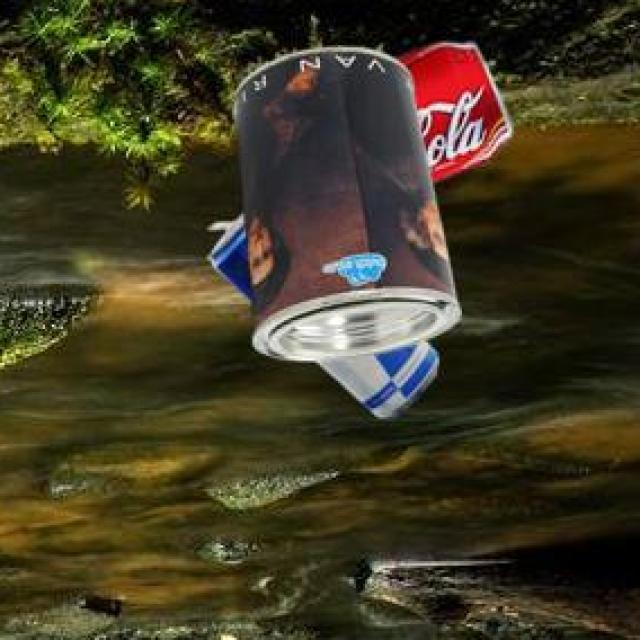logam: (235, 51, 463, 364), (211, 217, 441, 420), (400, 46, 515, 186)
